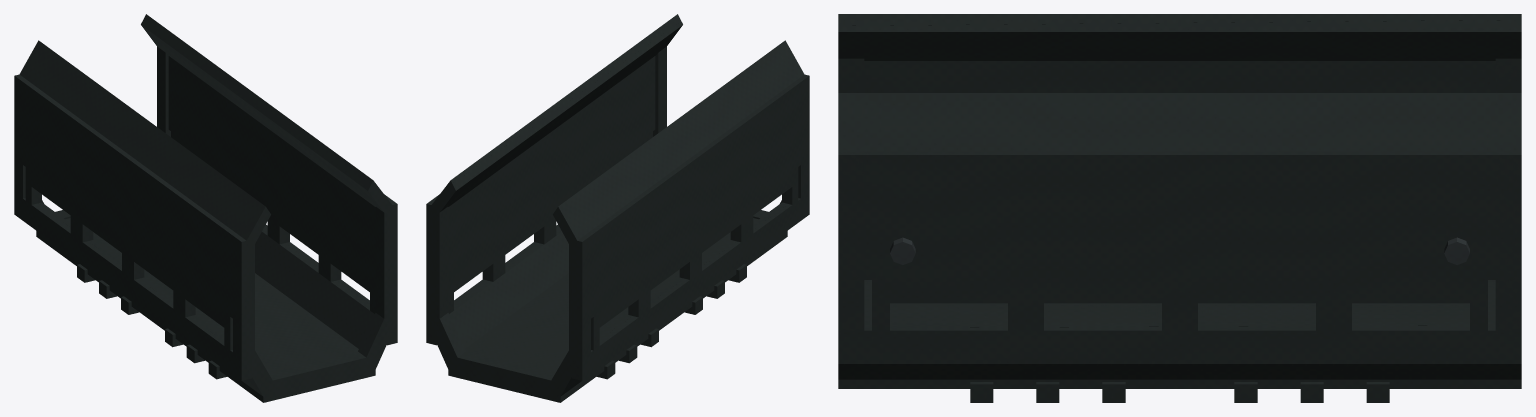
File: g36_guard.glb
3 renders of one model, left to right at view 1: azimuth 30°, elevation 25°; view 2: azimuth 150°, elevation 25°; view 3: azimuth 270°, elevation 25°, orthographic. The views are drawn at different scales.
Parts seen in each view (by area): view 1: handguard__g36_guard_LOD0_RAID_Secondary_Original_polymer, handguard__g36_guard_LOD1_RAID_Secondary_Original_polymer; view 2: handguard__g36_guard_LOD0_RAID_Secondary_Original_polymer, handguard__g36_guard_LOD1_RAID_Secondary_Original_polymer; view 3: handguard__g36_guard_LOD0_RAID_Secondary_Original_polymer, handguard__g36_guard_LOD1_RAID_Secondary_Original_polymer, handguard__g36_guard_LOD0_RAID_Secondary_Original_steel.
Boxes of the visible parts, bbox=[...] form: handguard__g36_guard_LOD0_RAID_Secondary_Original_polymer: bbox=[14, 14, 397, 402]; handguard__g36_guard_LOD1_RAID_Secondary_Original_polymer: bbox=[14, 47, 396, 402]; handguard__g36_guard_LOD0_RAID_Secondary_Original_polymer: bbox=[426, 14, 809, 402]; handguard__g36_guard_LOD1_RAID_Secondary_Original_polymer: bbox=[426, 75, 808, 402]; handguard__g36_guard_LOD0_RAID_Secondary_Original_polymer: bbox=[838, 14, 1521, 402]; handguard__g36_guard_LOD1_RAID_Secondary_Original_polymer: bbox=[839, 20, 1521, 402]; handguard__g36_guard_LOD0_RAID_Secondary_Original_steel: bbox=[890, 237, 1469, 264].
Bounding box in the file's own units: 0.109 × 0.131 × 0.265.
2 materials, 2 textured.
